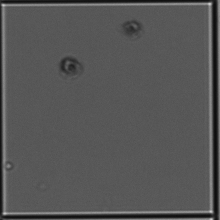Dead Cell: (59, 55, 85, 78), (120, 19, 144, 39)
